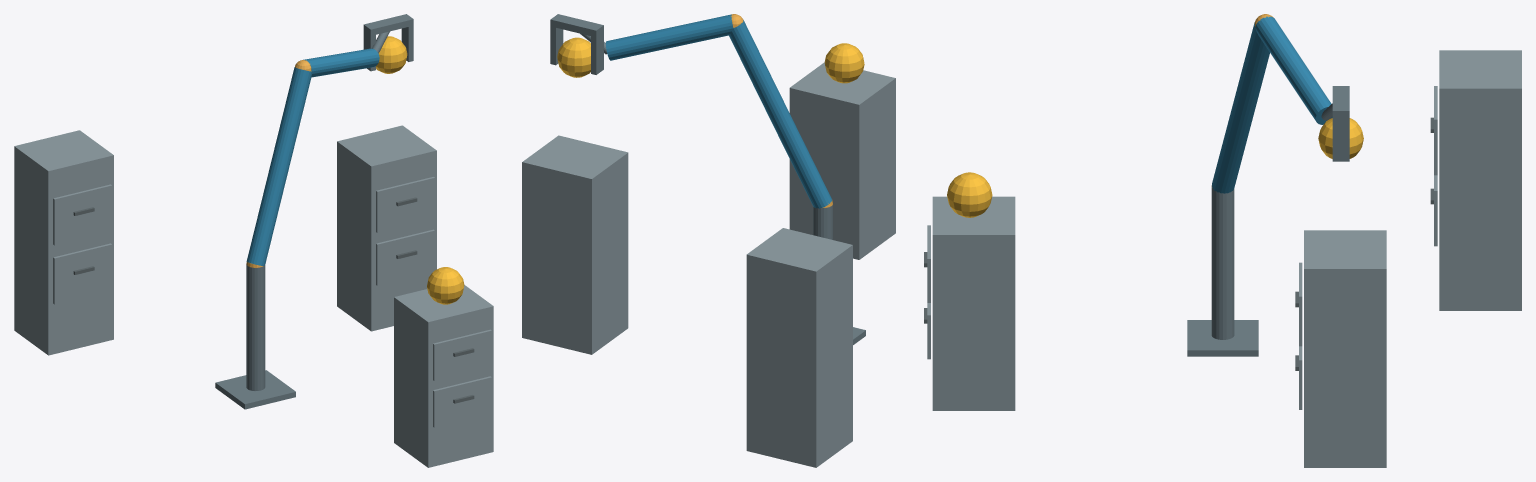
3 views of the same model, side by side, from view 1: azimuth 30°, elevation 25°; view 2: azimuth 150°, elevation 25°; view 3: azimuth 270°, elevation 25° (orthographic). The views are drawn at different scales.
Visible parts, largest first — view 1: cabinet_3 body, cabinet_2 body, cabinet_1 body, moving link 1, cabinet_3 drawer front, cabinet_3 drawer front.001, cabinet_2 drawer front, cabinet_2 drawer front.001, fixed post, cabinet_1 drawer front.001, cabinet_1 drawer front, pedestal (+4 smaller); view 2: cabinet_3 body, cabinet_2 body, cabinet_1 body, moving link 1, moving link 2, released ball_1, ball ball_2, gripper bridge, fixed post, gripper finger -1, gripper finger 1; view 3: cabinet_3 body, cabinet_2 body, cabinet_1 body, moving link 1, fixed post, moving link 2, pedestal, released ball_1, ball ball_2, gripper finger 1.
Part boxes in pixels (x1,y1,x2,y2): cabinet_3 body: (14,130,113,355); cabinet_2 body: (337,125,436,331); cabinet_1 body: (394,285,493,467); moving link 1: (246,67,311,266); cabinet_3 drawer front: (53,243,112,304); cabinet_3 drawer front.001: (53,184,112,245); cabinet_2 drawer front: (376,229,434,285); cabinet_2 drawer front.001: (376,177,434,232); fixed post: (246,265,265,390); cabinet_1 drawer front.001: (433,329,491,380); cabinet_1 drawer front: (433,376,491,427); pedestal: (215,370,295,409); cabinet_3 body: (746,228,852,467); cabinet_2 body: (522,135,628,354); cabinet_1 body: (789,62,895,259); moving link 1: (729,20,831,208); moving link 2: (605,14,733,60); released ball_1: (824,43,864,83); ball ball_2: (557,37,590,77); gripper bridge: (550,14,603,37); fixed post: (813,205,832,239); gripper finger -1: (591,32,603,74); gripper finger 1: (550,26,563,65); cabinet_3 body: (1439,50,1521,310); cabinet_2 body: (1304,230,1386,467); cabinet_1 body: (932,196,1015,410); moving link 1: (1212,22,1269,193); fixed post: (1211,187,1234,339); moving link 2: (1255,16,1332,124); pedestal: (1187,320,1258,356); released ball_1: (947,172,992,217); ball ball_2: (1318,118,1363,158); gripper finger 1: (1332,119,1349,161).
Size of the model in its own units: 1.62 by 1.41 by 2.1.
